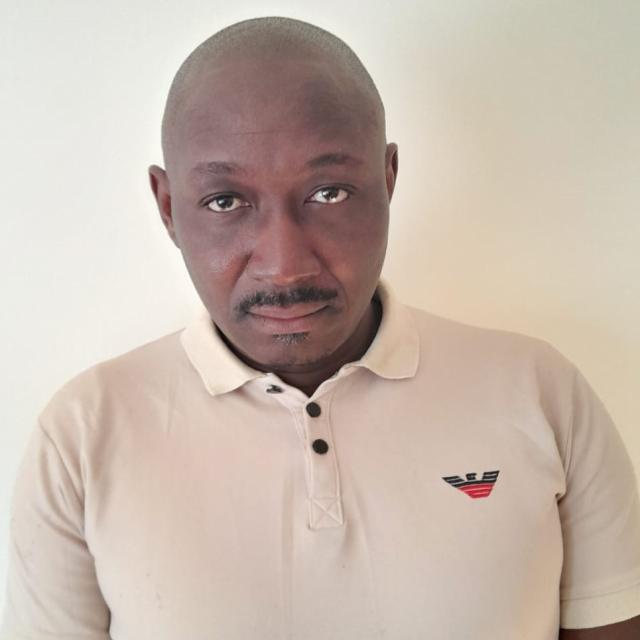sad: (144, 13, 405, 385)
